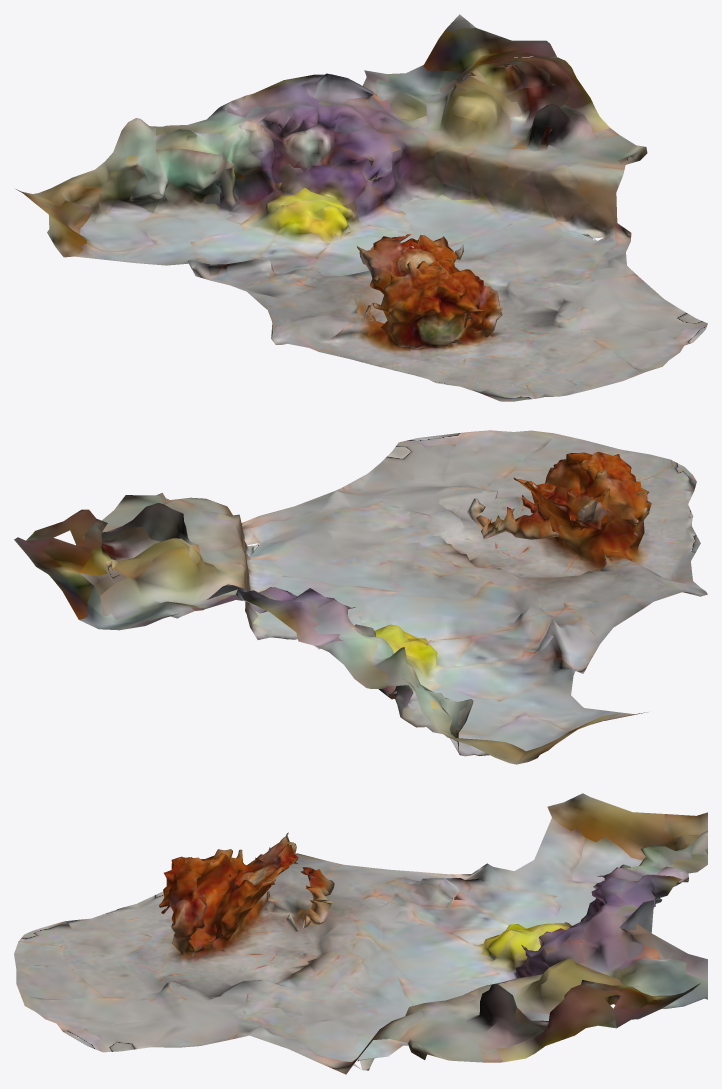
File: hall.glb
3 views of the same model, one above another, from view 1: azimuth 30°, elevation 25°; view 2: azimuth 150°, elevation 25°; view 3: azimuth 270°, elevation 25° (orthographic). The views are drawn at different scales.
Size of the model in its own units: 4.39 by 0.7941 by 4.72.
Materials: 1 (1 with a texture image).
